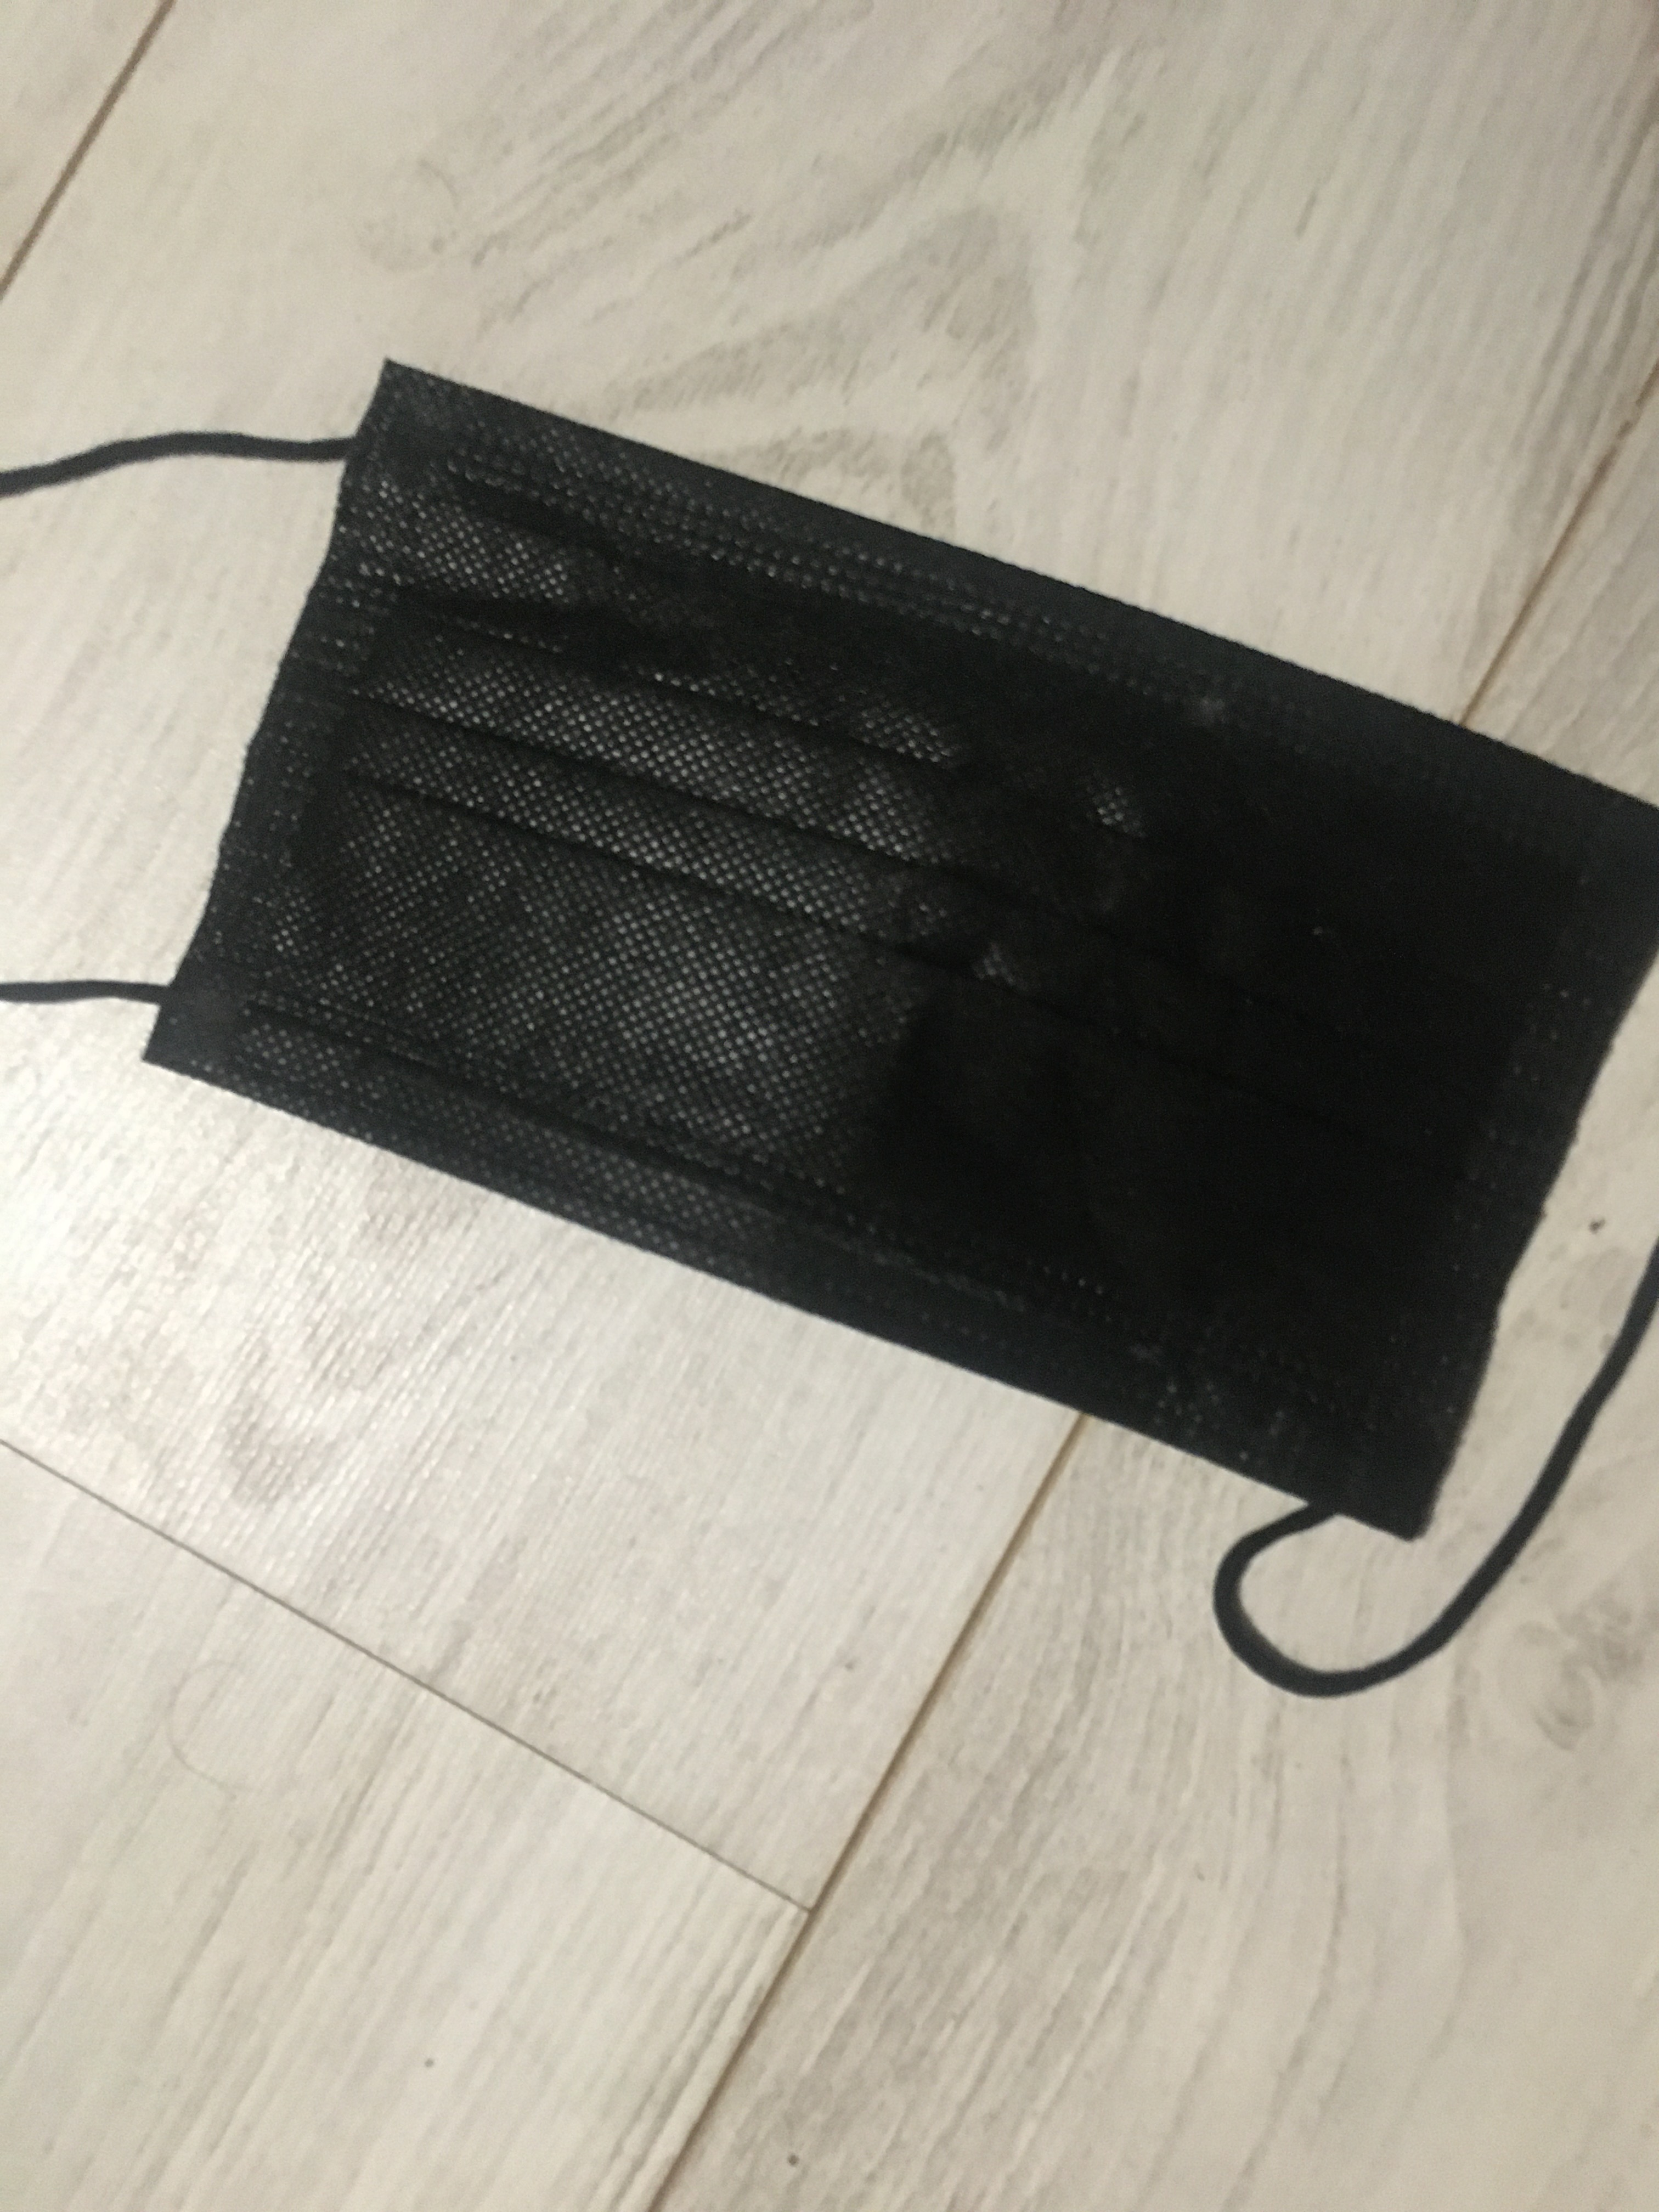trash: (2, 364, 1659, 1693)
